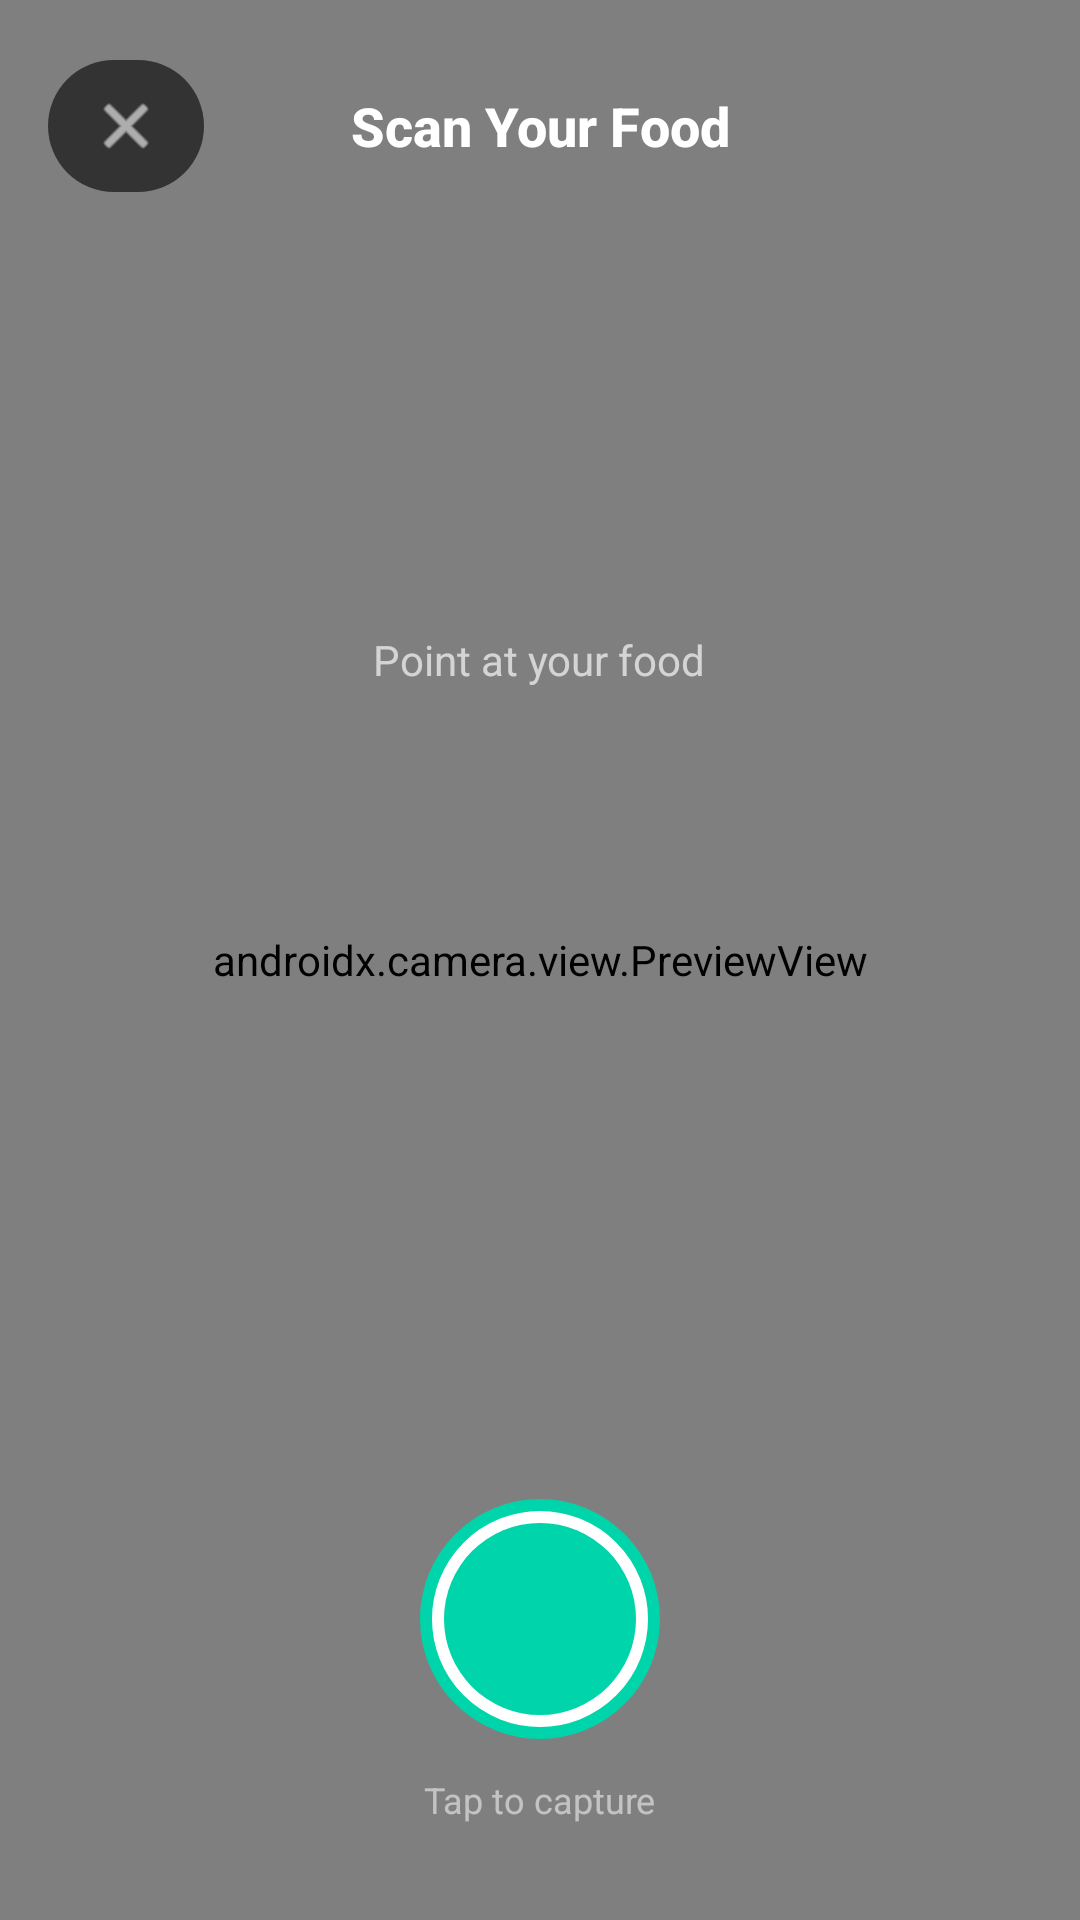

Icons on this 1080px×1920px Android screen, each with the point to tap as [x,y]:
close clear cancel: [126,126]
